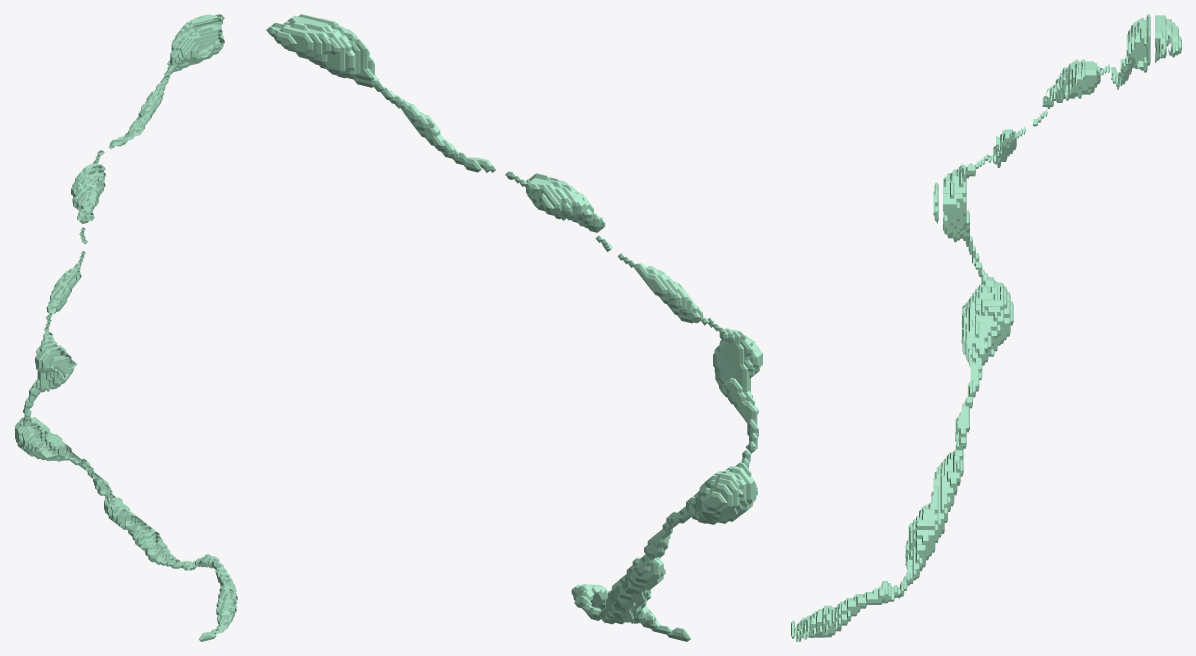
Rendered from SVV_ASIL.gltf.
3 views of the same model, side by side, from view 1: azimuth 30°, elevation 25°; view 2: azimuth 150°, elevation 25°; view 3: azimuth 270°, elevation 25° (orthographic). The views are drawn at different scales.
Parts seen in each view (by area): view 1: ASIL; view 2: ASIL; view 3: ASIL.
Part boxes in pixels (left/top/right/bottom): ASIL: left=14, top=14, right=237, bottom=641; ASIL: left=266, top=14, right=762, bottom=641; ASIL: left=791, top=14, right=1181, bottom=641.
Bounding box in the file's own units: 54815 × 94769 × 48148.
